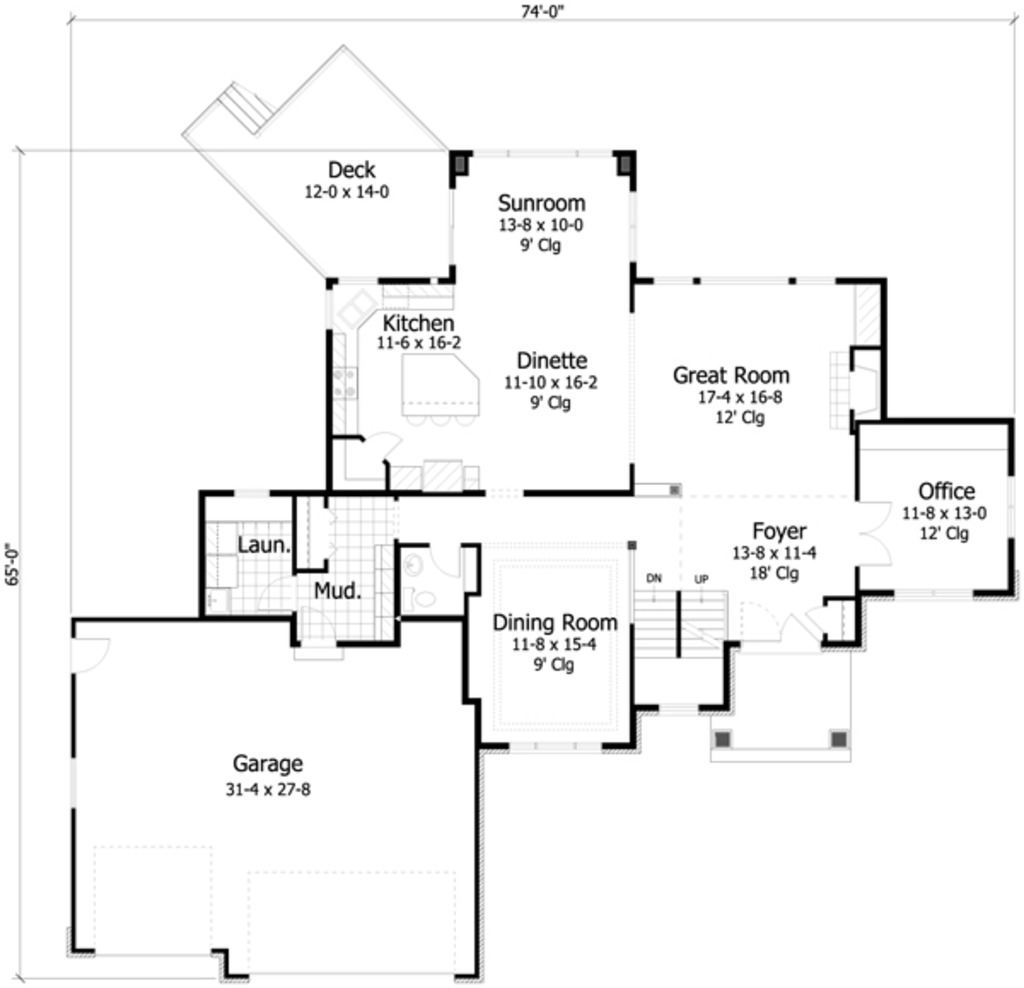door: (856, 494, 900, 576), (67, 631, 120, 676), (773, 609, 823, 650), (426, 540, 467, 583)
kitchen_bar: (393, 350, 486, 429)
stairs: (627, 568, 736, 714)
twin_sink: (338, 293, 381, 334)
windows: (500, 735, 610, 762), (467, 144, 614, 164), (653, 273, 838, 288), (881, 584, 979, 607), (1000, 472, 1023, 548)
